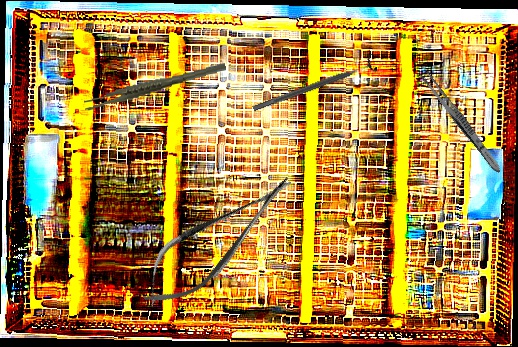Dressing Forceps: (417, 68, 505, 176)
Fixation Ring: (249, 52, 379, 119)
Micro Scissor: (125, 159, 310, 322)
Tissue Forceps: (81, 61, 229, 112)
